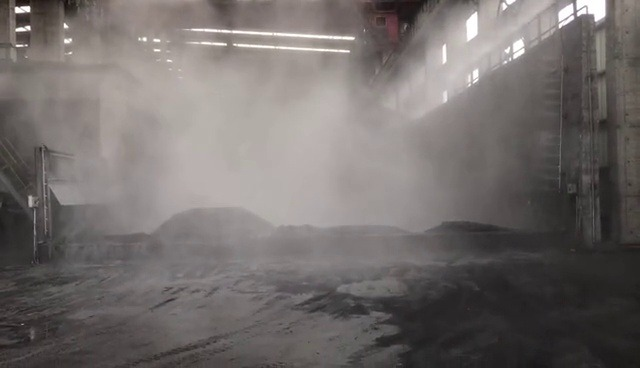dust: (68, 7, 534, 235)
